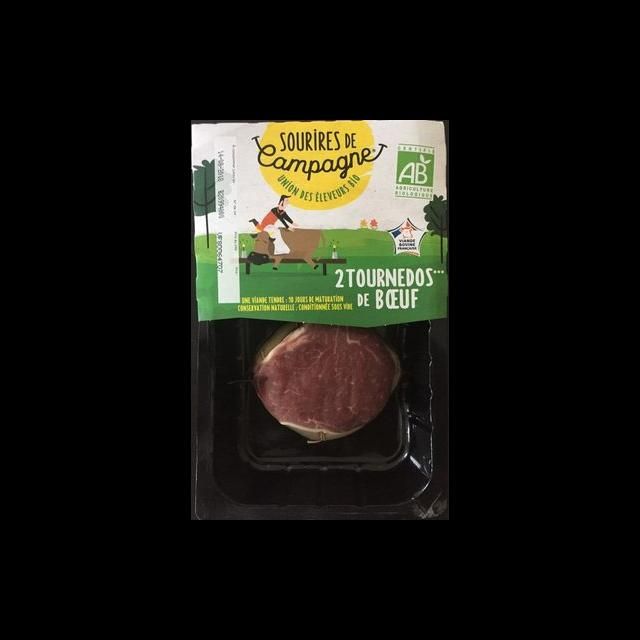beef: (256, 324, 400, 438)
